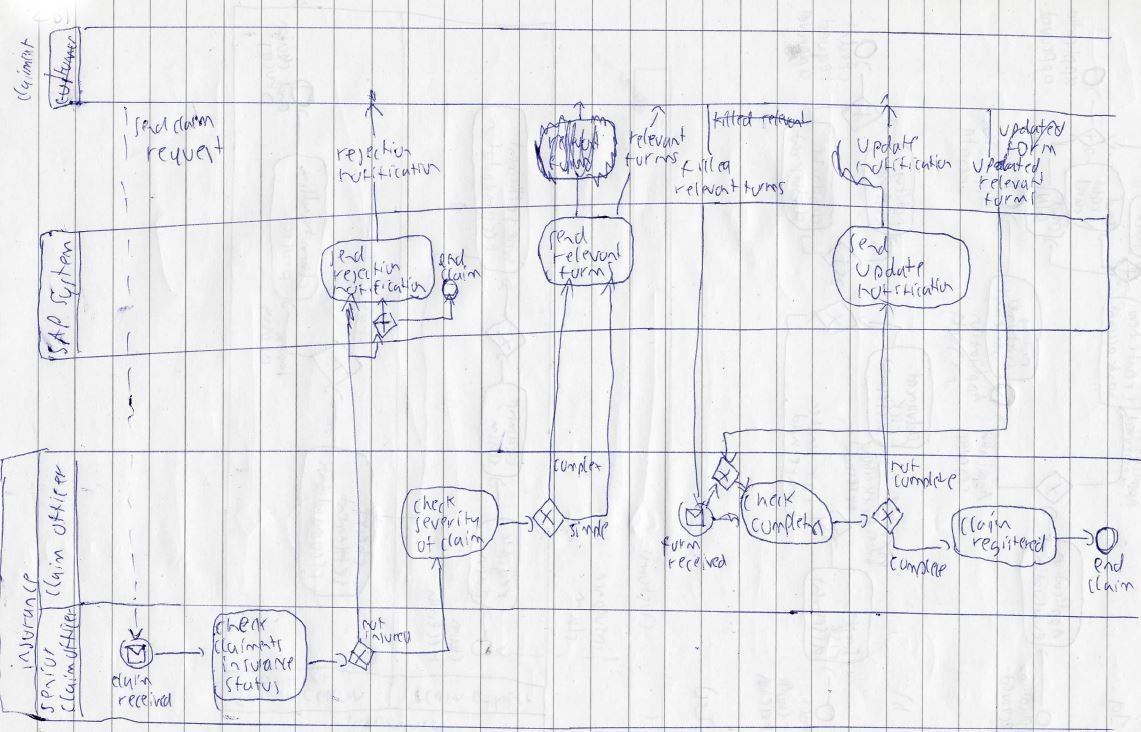Check: (744, 489, 798, 513)
Claim: (960, 513, 1014, 536), (57, 663, 79, 711), (437, 266, 478, 284)
SAP: (43, 317, 69, 359)
Send: (844, 233, 895, 255), (436, 250, 469, 270)
System: (46, 239, 77, 308)
Update: (858, 132, 921, 157), (859, 258, 926, 279)
Updated: (978, 157, 1037, 176)
check: (213, 611, 269, 636), (411, 494, 459, 514)
claim: (164, 108, 216, 137), (42, 548, 67, 601), (435, 531, 485, 553), (1086, 576, 1134, 595), (107, 673, 151, 691)
claimant: (13, 35, 36, 100)
claimants: (208, 635, 287, 657)
complete: (746, 513, 825, 540), (891, 471, 959, 491)
complex: (887, 556, 948, 581), (549, 457, 602, 477)
end: (1092, 556, 1124, 574)
filled: (683, 155, 732, 178)
form: (982, 192, 1033, 208), (556, 265, 602, 282), (659, 536, 701, 554)
insurance: (11, 570, 37, 670)
insured: (365, 632, 411, 646)
not: (355, 614, 386, 631), (890, 458, 917, 476)
notification: (337, 160, 441, 186), (851, 276, 956, 301), (852, 154, 954, 177), (330, 277, 427, 297)
of: (414, 535, 433, 556)
officer: (45, 466, 73, 534), (58, 604, 79, 658)
received: (665, 554, 727, 573), (116, 693, 173, 710)
registered: (970, 534, 1047, 555)
rejection: (333, 138, 412, 166), (330, 259, 404, 286)
relevant: (552, 244, 624, 265), (625, 129, 688, 150), (976, 176, 1043, 192)
relevant forms: (673, 178, 788, 199)
request: (140, 135, 224, 165)
send: (134, 111, 170, 139), (326, 245, 366, 269), (552, 227, 590, 249)
senior: (35, 646, 61, 713)
severity: (411, 510, 481, 534)
simple: (563, 518, 610, 541)
status: (220, 676, 281, 696)
turns: (621, 152, 681, 173)
